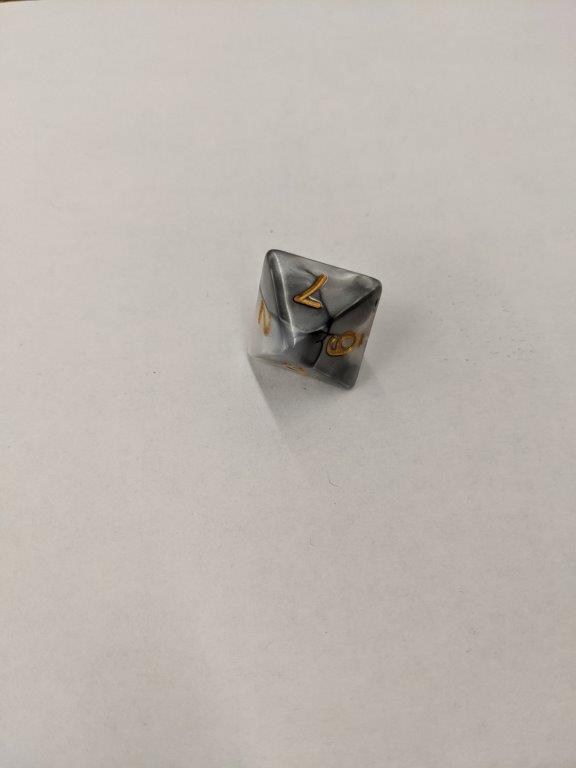d8-7: (244, 249, 385, 391)
